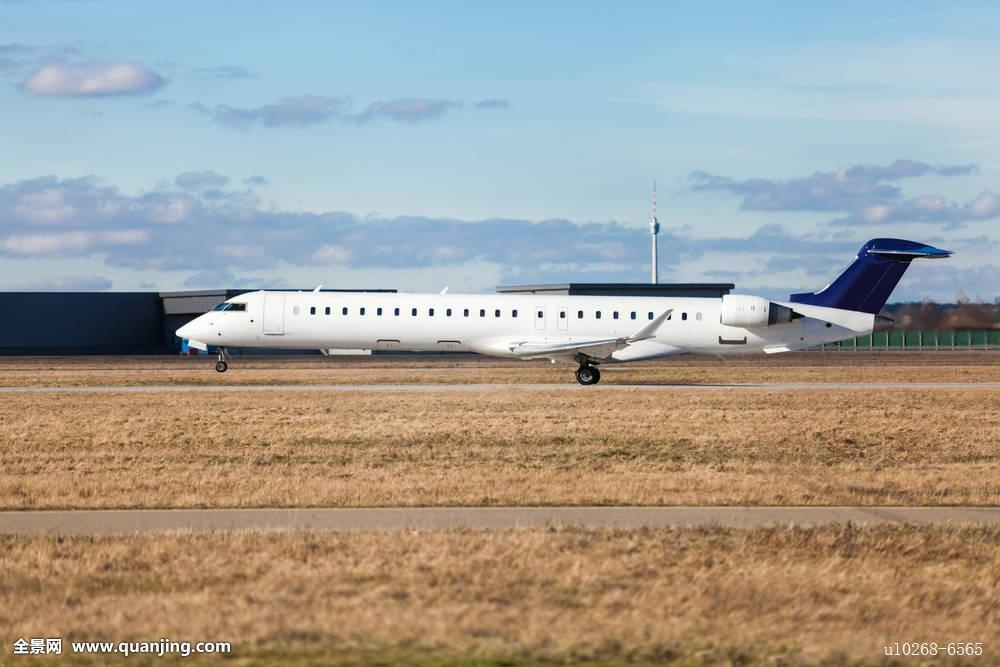airplane: (169, 223, 956, 392)
